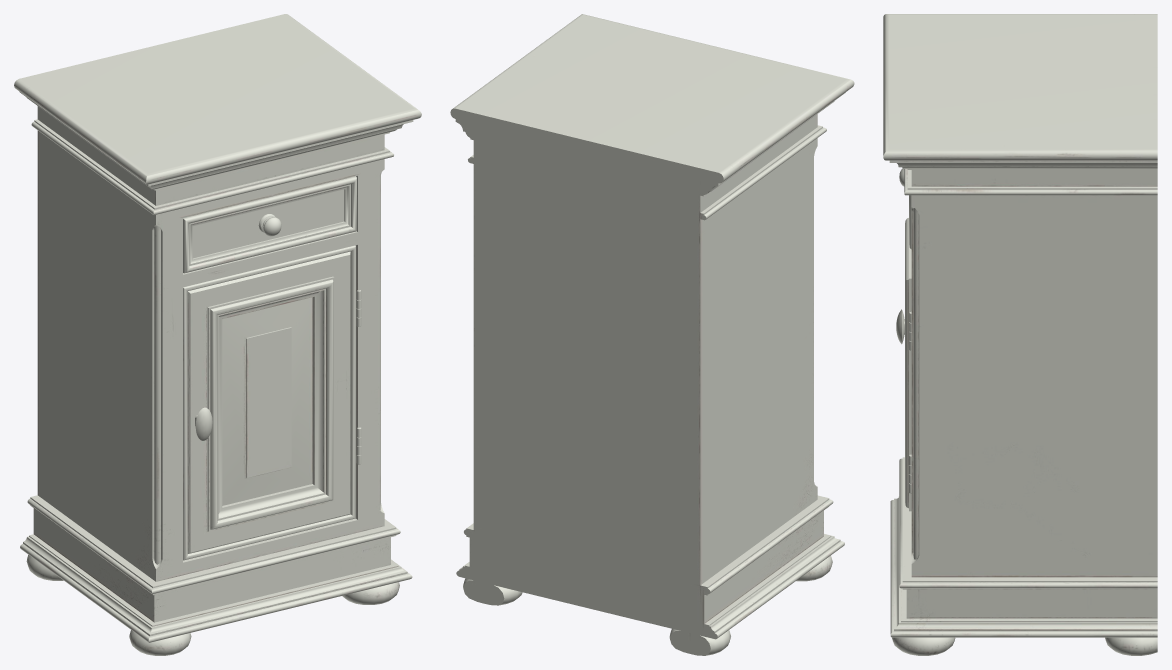
The model's file is example135.glb.
3 renders of one model, left to right at view 1: azimuth 30°, elevation 25°; view 2: azimuth 150°, elevation 25°; view 3: azimuth 270°, elevation 25°, orthographic. The views are drawn at different scales.
Visible parts, largest first — view 1: Buffer Layer; view 2: Buffer Layer; view 3: Buffer Layer.
Part boxes in pixels (bbox=[...]): Buffer Layer: bbox=[14, 14, 421, 655]; Buffer Layer: bbox=[450, 14, 854, 655]; Buffer Layer: bbox=[883, 14, 1157, 655].
Size of the model in its own units: 0.8 by 1.37 by 0.6634.
Materials: 1 (1 with a texture image).
